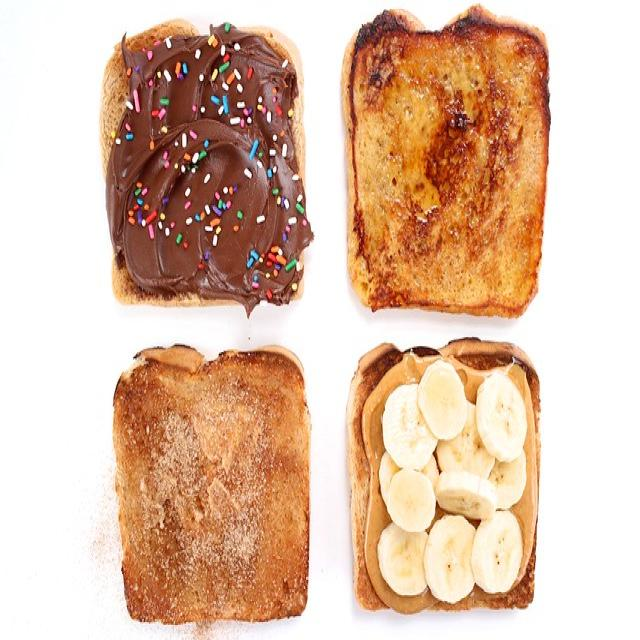Bread: (342, 6, 550, 316), (114, 347, 310, 623)
